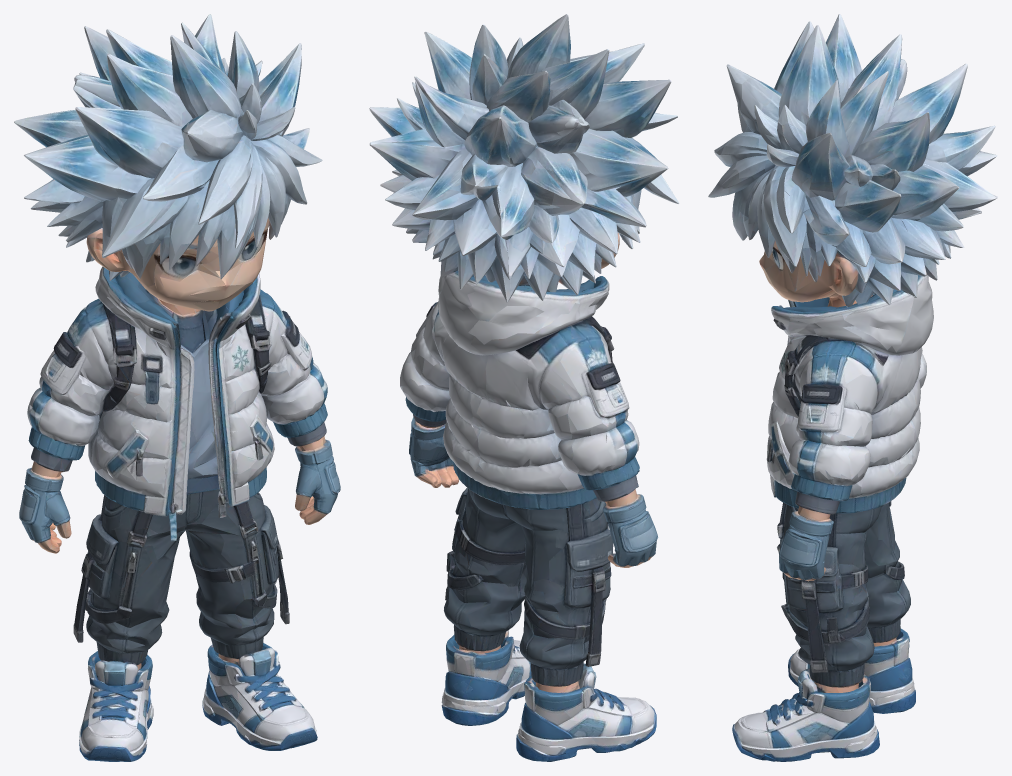
File: huka.glb
The picture shows the model from 3 angles, left to right: view 1: azimuth 30°, elevation 25°; view 2: azimuth 150°, elevation 25°; view 3: azimuth 270°, elevation 25°; orthographic projection. The views are drawn at different scales.
Parts seen in each view (by area): view 1: frozen; view 2: frozen; view 3: frozen.
Part boxes in pixels (bbox=[...]): frozen: bbox=[14, 14, 340, 761]; frozen: bbox=[369, 14, 679, 761]; frozen: bbox=[708, 14, 997, 761].
Size of the model in its own units: 0.7133 by 1.7 by 0.6515.
1 material, 1 textured.
